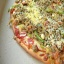pizza: (7, 3, 64, 64)
